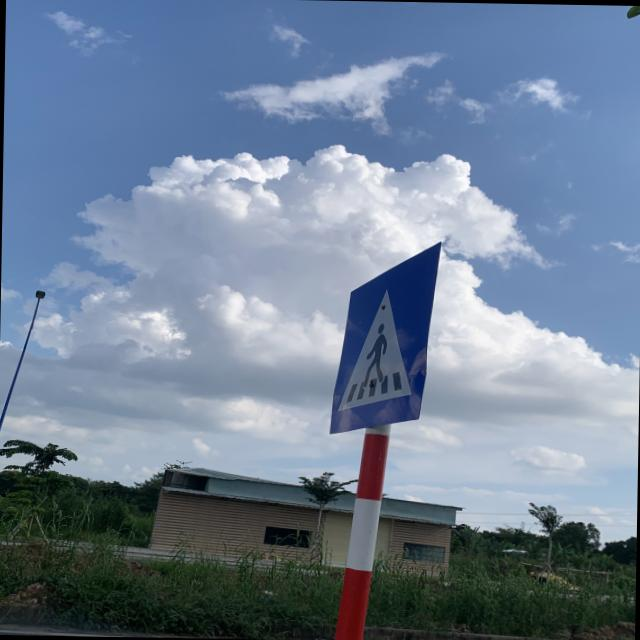Giao_Nhau_Duong_Uu_Tien: (329, 240, 442, 433)
